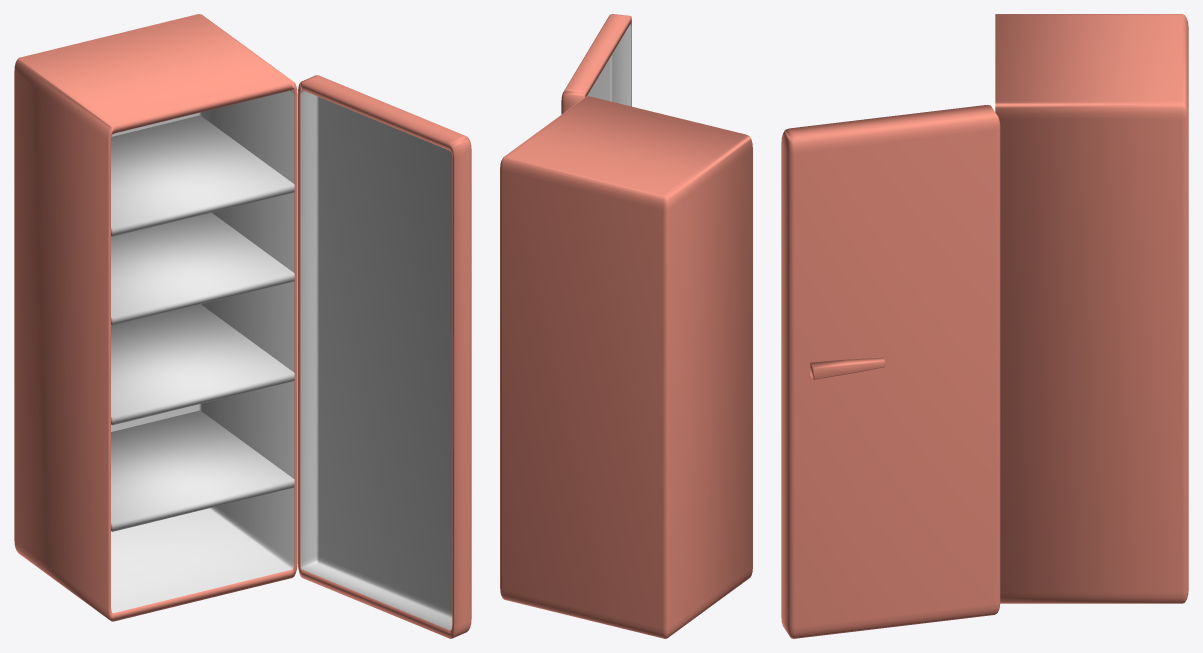
Rendered from fridge.fbx.
The picture shows the model from 3 angles, left to right: view 1: azimuth 30°, elevation 25°; view 2: azimuth 150°, elevation 25°; view 3: azimuth 270°, elevation 25°; orthographic projection. The views are drawn at different scales.
Visible parts, largest first — view 1: Fridge.001, Firdge door, Fridge.008, Fridge.005, Fridge.007, Fridge.006; view 2: Fridge.001, Firdge door; view 3: Firdge door, Fridge.001.
Boxes of the visible parts, x1=… form: Fridge.001: x1=14, y1=14, x2=297, y2=621; Firdge door: x1=298, y1=75, x2=471, y2=638; Fridge.008: x1=111, y1=410, x2=294, y2=531; Fridge.005: x1=111, y1=115, x2=294, y2=236; Fridge.007: x1=111, y1=304, x2=294, y2=425; Fridge.006: x1=111, y1=212, x2=294, y2=325; Fridge.001: x1=500, y1=96, x2=752, y2=638; Firdge door: x1=561, y1=14, x2=631, y2=114; Firdge door: x1=781, y1=105, x2=1000, y2=638; Fridge.001: x1=995, y1=14, x2=1188, y2=603.
Size of the model in its own units: 85.14 by 150 by 110.
